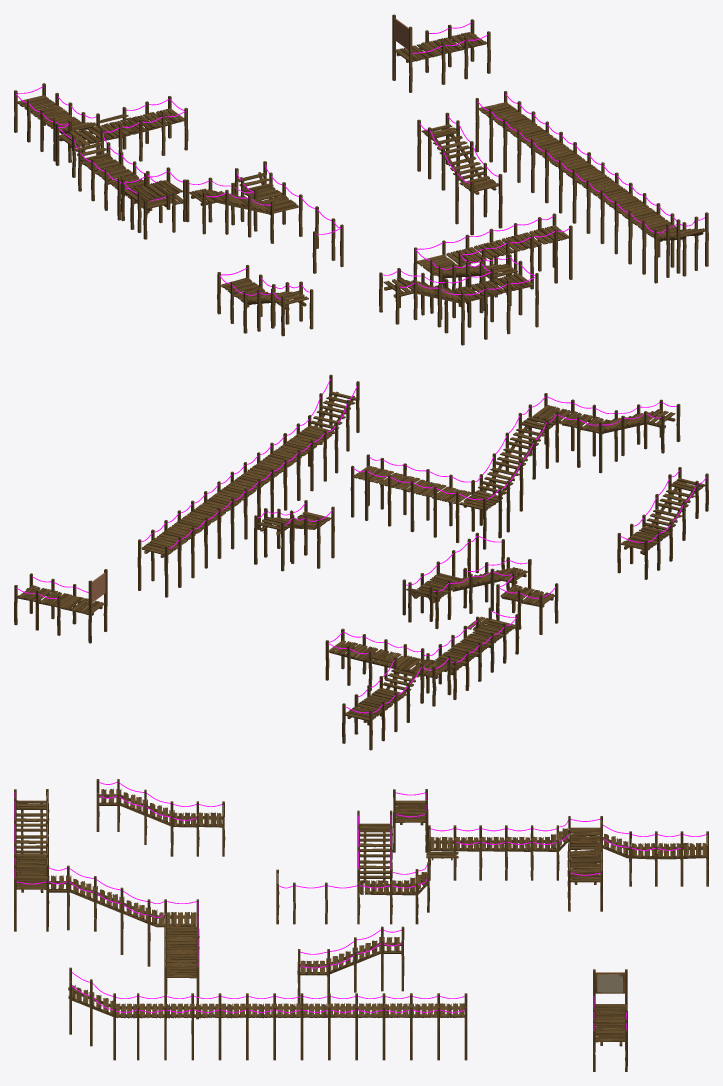
Rendered from Decking.glb.
The picture shows the model from 3 angles, top to bottom: view 1: azimuth 30°, elevation 25°; view 2: azimuth 150°, elevation 25°; view 3: azimuth 270°, elevation 25°; orthographic projection. The views are drawn at different scales.
Visible parts, largest first — view 1: Decking; view 2: Decking; view 3: Decking.
Boxes of the visible parts, x1,y1,x2,y2 form: Decking: (14, 14, 708, 345); Decking: (14, 374, 708, 750); Decking: (14, 779, 708, 1071).
Size of what is drawn, in the model's own units: 40.68 by 9.4 by 54.06.
6 materials, 2 textured.
